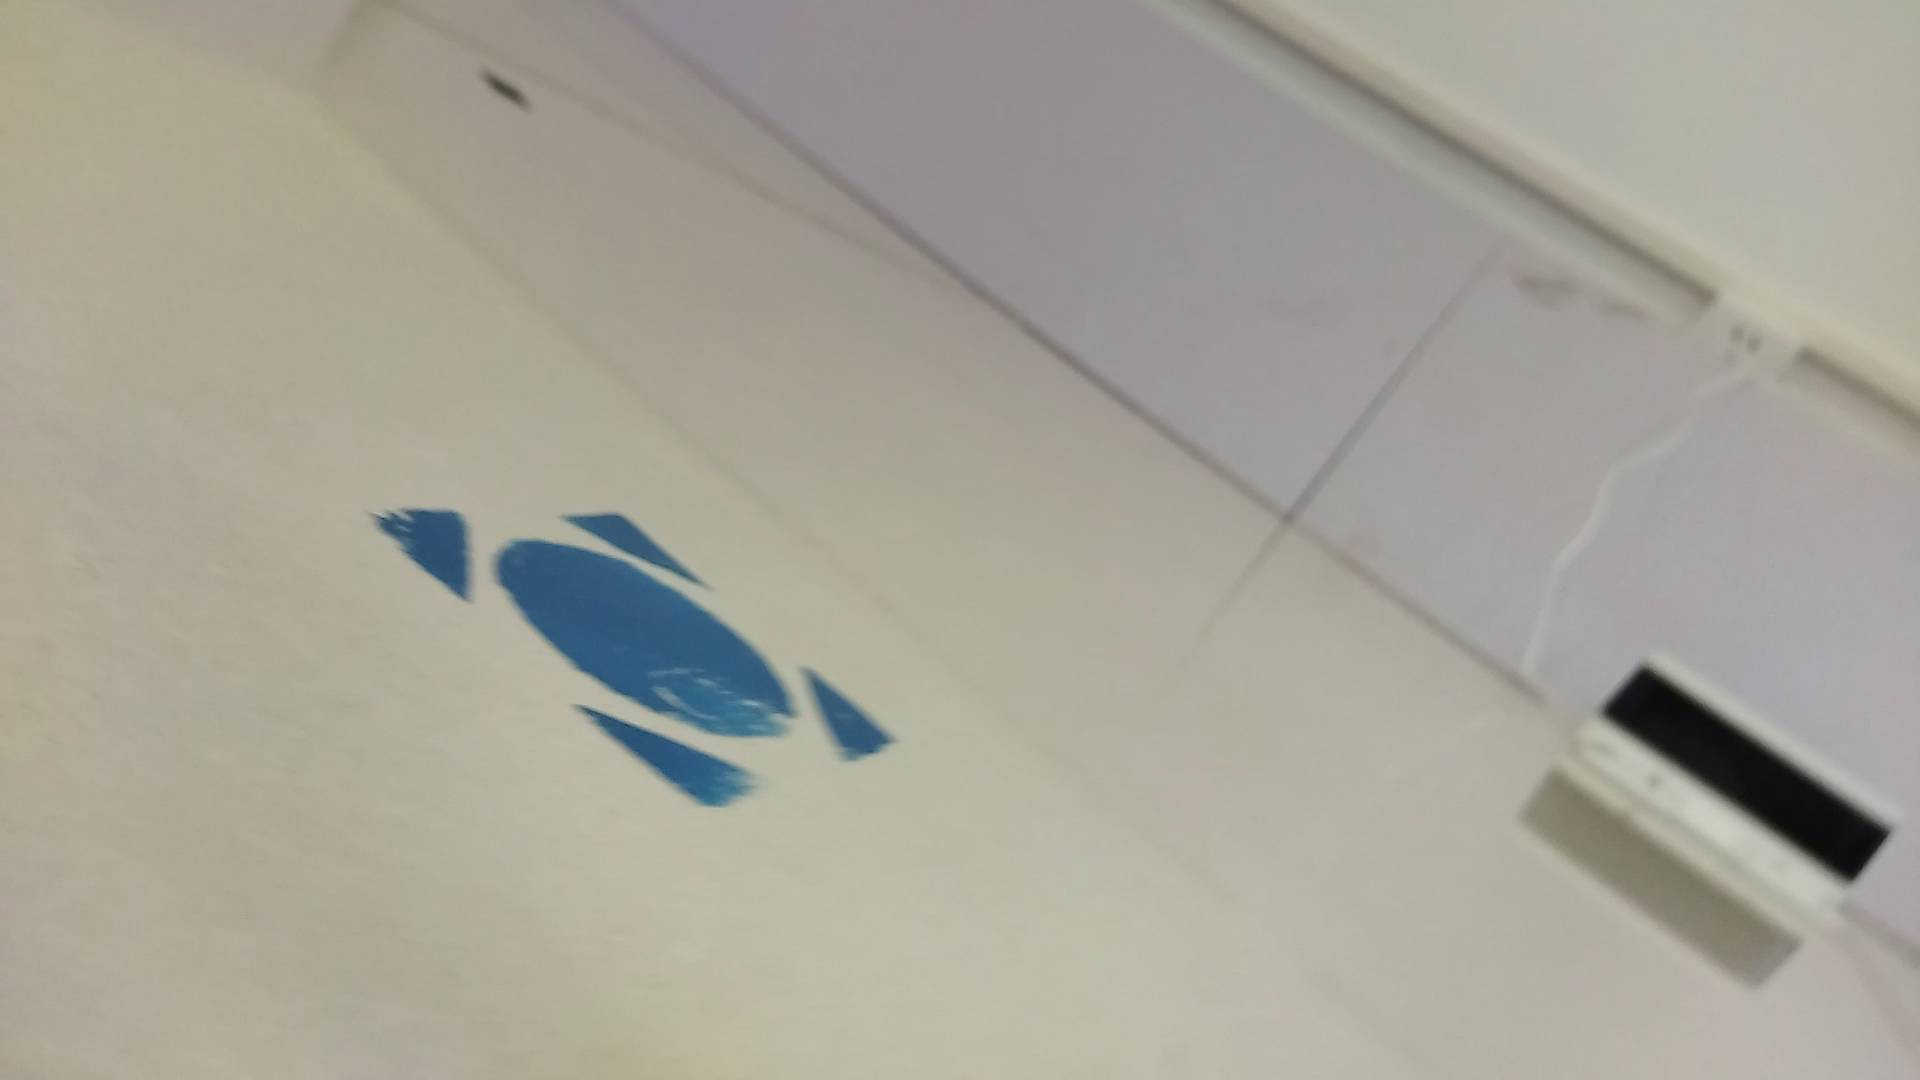recharge seat: (1551, 650, 1898, 928)
